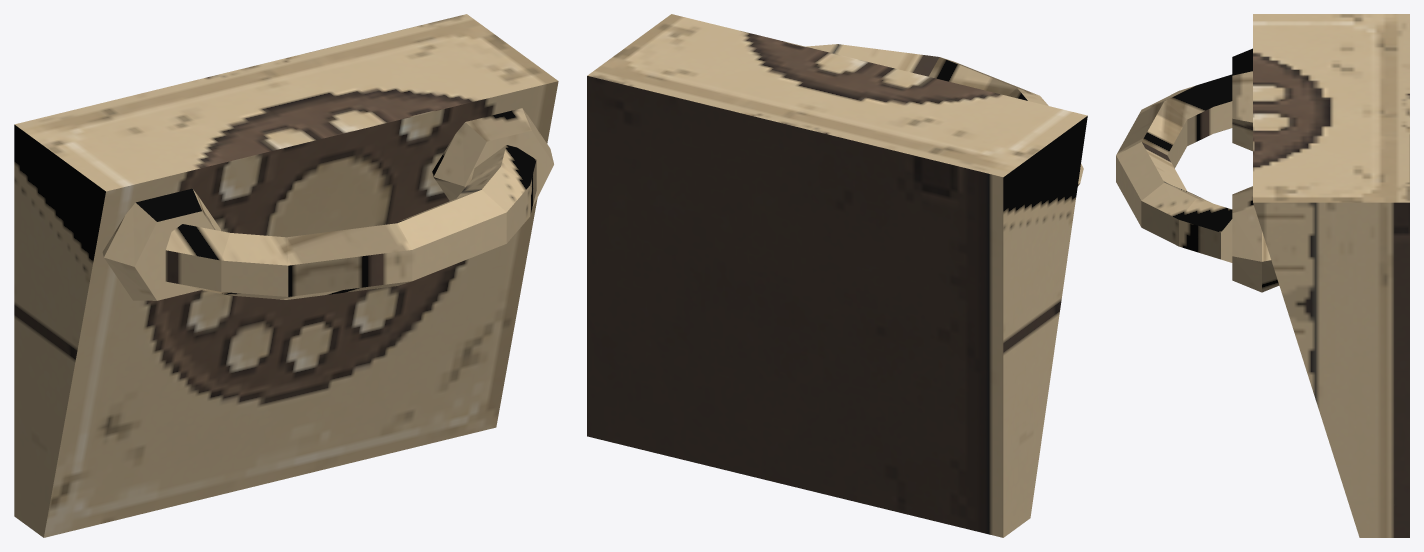
File: pz_phone_rotary_beige.obj
3 renders of one model, left to right at view 1: azimuth 30°, elevation 25°; view 2: azimuth 150°, elevation 25°; view 3: azimuth 270°, elevation 25°, orthographic. The views are drawn at different scales.
Visible parts, largest first — view 1: pz_phone_rotary_beige_|_simple_sloped_base, pz_phone_rotary_beige_|_EDITABLE_low-poly_curved_handset, pz_phone_rotary_beige_|_low-poly_receiver_end_0, pz_phone_rotary_beige_|_low-poly_receiver_end_1; view 2: pz_phone_rotary_beige_|_simple_sloped_base, pz_phone_rotary_beige_|_EDITABLE_low-poly_curved_handset; view 3: pz_phone_rotary_beige_|_simple_sloped_base, pz_phone_rotary_beige_|_EDITABLE_low-poly_curved_handset, pz_phone_rotary_beige_|_low-poly_receiver_end_1, pz_phone_rotary_beige_|_low-poly_receiver_end_0.
Part boxes in pixels (x1,y1,x2,y2): pz_phone_rotary_beige_|_simple_sloped_base: (14,14,558,537); pz_phone_rotary_beige_|_EDITABLE_low-poly_curved_handset: (165,145,536,299); pz_phone_rotary_beige_|_low-poly_receiver_end_0: (102,188,220,300); pz_phone_rotary_beige_|_low-poly_receiver_end_1: (432,108,553,207); pz_phone_rotary_beige_|_simple_sloped_base: (587,14,1087,537); pz_phone_rotary_beige_|_EDITABLE_low-poly_curved_handset: (806,44,1048,105); pz_phone_rotary_beige_|_simple_sloped_base: (1253,14,1409,537); pz_phone_rotary_beige_|_EDITABLE_low-poly_curved_handset: (1116,74,1232,262); pz_phone_rotary_beige_|_low-poly_receiver_end_1: (1232,186,1279,292); pz_phone_rotary_beige_|_low-poly_receiver_end_0: (1232,48,1252,151).
Bounding box in the file's own units: 0.302 × 0.25 × 0.1986.
